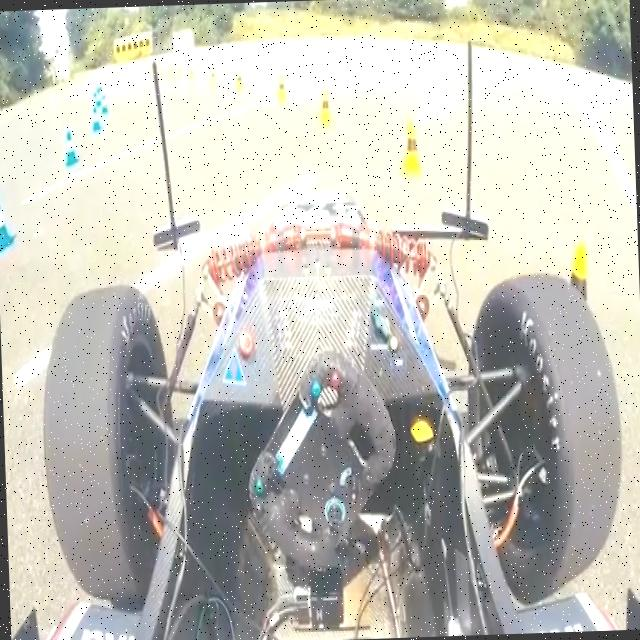blue_cone: (0, 193, 16, 252), (62, 129, 79, 168), (90, 105, 100, 134), (100, 92, 108, 118), (92, 85, 100, 108)
yellow_cone: (535, 222, 607, 438), (398, 119, 422, 180), (316, 87, 332, 130), (272, 74, 288, 109), (234, 70, 244, 96), (210, 68, 218, 90), (189, 66, 196, 84), (177, 65, 183, 81)
